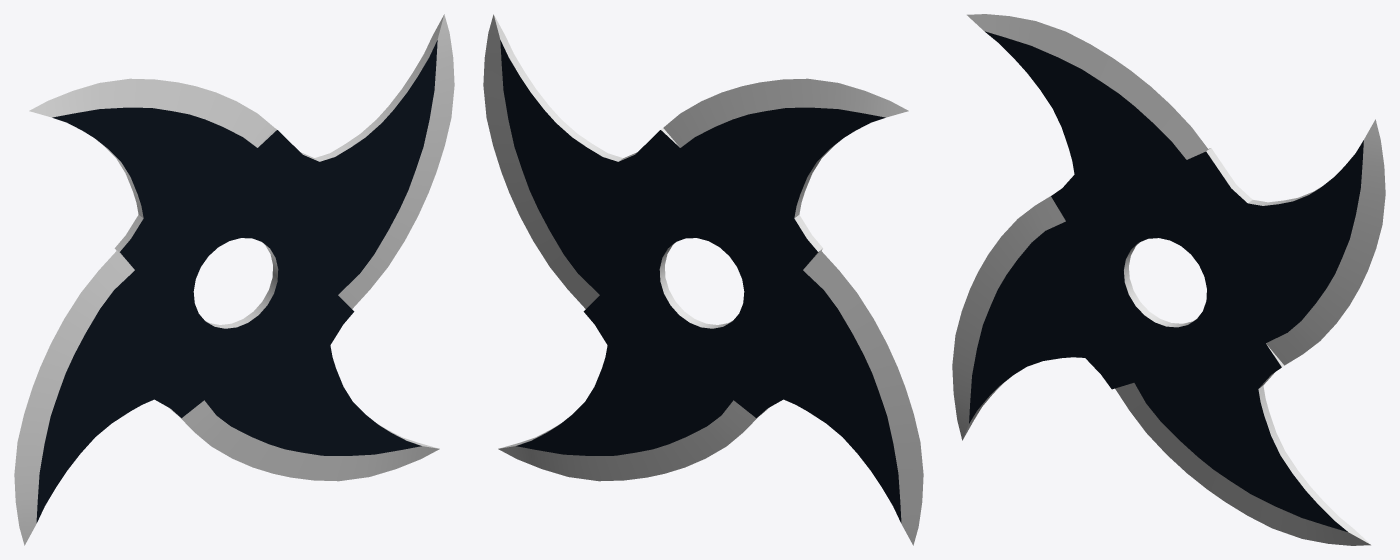
File: scene_vGUxJ11oES.glb
The picture shows the model from 3 angles, left to right: view 1: azimuth 30°, elevation 25°; view 2: azimuth 150°, elevation 25°; view 3: azimuth 330°, elevation 25°; orthographic projection.
Parts seen in each view (by area): view 1: Shuriken_19; view 2: Shuriken_19; view 3: Shuriken_19.
Boxes of the visible parts, x1=… form: Shuriken_19: x1=14, y1=14, x2=454, y2=545; Shuriken_19: x1=483, y1=14, x2=923, y2=545; Shuriken_19: x1=952, y1=14, x2=1385, y2=545.
Bounding box in the file's own units: 1.69 × 1.68 × 0.034.
